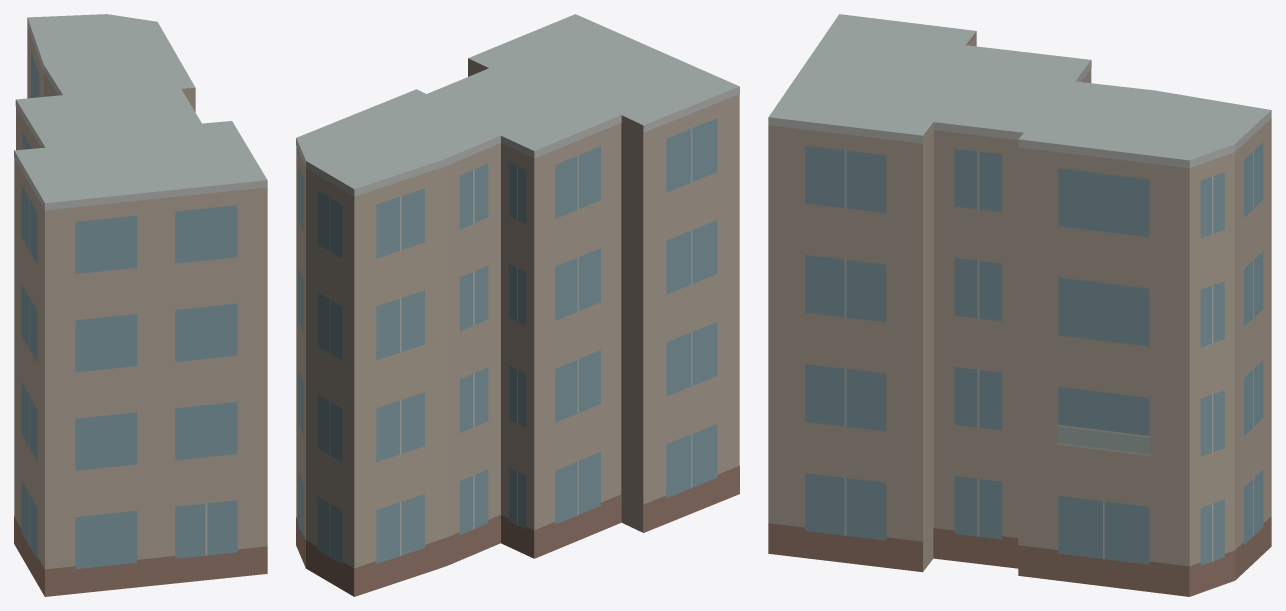
File: survey-upis-32470770.glb
The picture shows the model from 3 angles, left to right: view 1: azimuth 30°, elevation 25°; view 2: azimuth 150°, elevation 25°; view 3: azimuth 270°, elevation 25°; orthographic projection. The views are drawn at different scales.
Visible parts, largest first — view 1: survey-upis-32470770.tmp; view 2: survey-upis-32470770.tmp; view 3: survey-upis-32470770.tmp.
Part boxes in pixels (x1,y1,x2,y2): survey-upis-32470770.tmp: (14, 14, 267, 596); survey-upis-32470770.tmp: (296, 14, 739, 596); survey-upis-32470770.tmp: (768, 14, 1271, 596).
Size of the model in its own units: 9.61 by 13.35 by 13.96.
